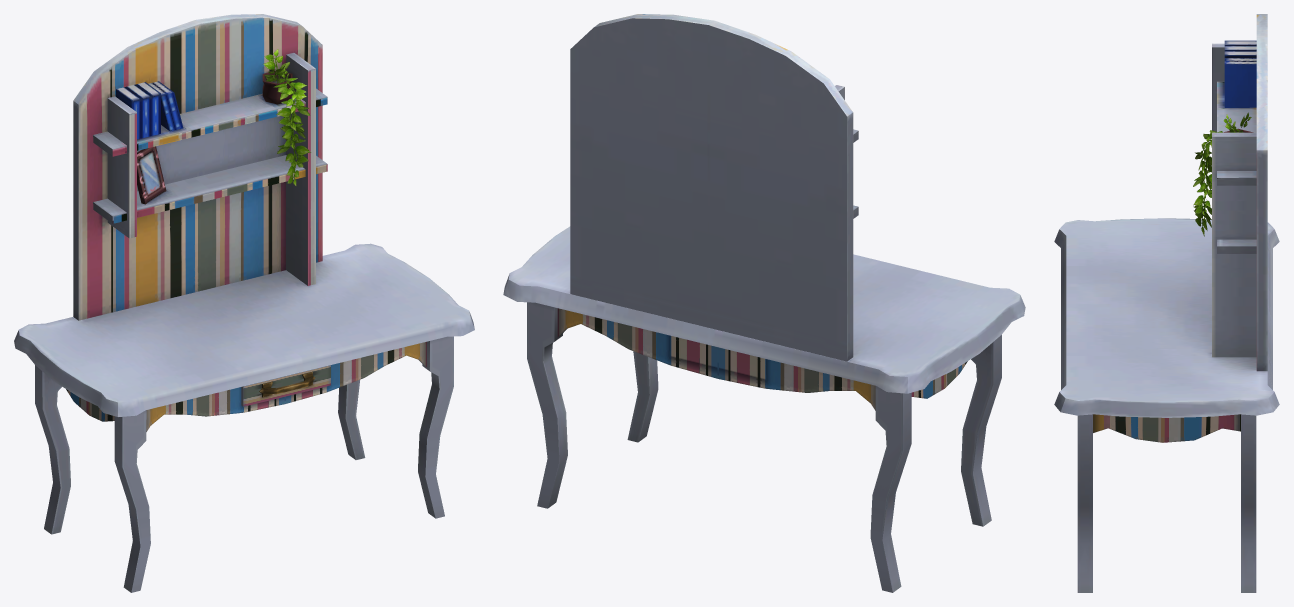
Rendered from furni_0200609.FBX.
3 views of the same model, side by side, from view 1: azimuth 30°, elevation 25°; view 2: azimuth 150°, elevation 25°; view 3: azimuth 270°, elevation 25° (orthographic). The views are drawn at different scales.
Parts seen in each view (by area): view 1: furni_0200609; view 2: furni_0200609; view 3: furni_0200609.
Boxes of the visible parts, box(x1,y1,x2,y2) form: furni_0200609: box(14, 14, 474, 592); furni_0200609: box(503, 14, 1025, 592); furni_0200609: box(1054, 14, 1279, 592).
Size of the model in its own units: 159 by 187 by 80.07.
1 material, 1 textured.
